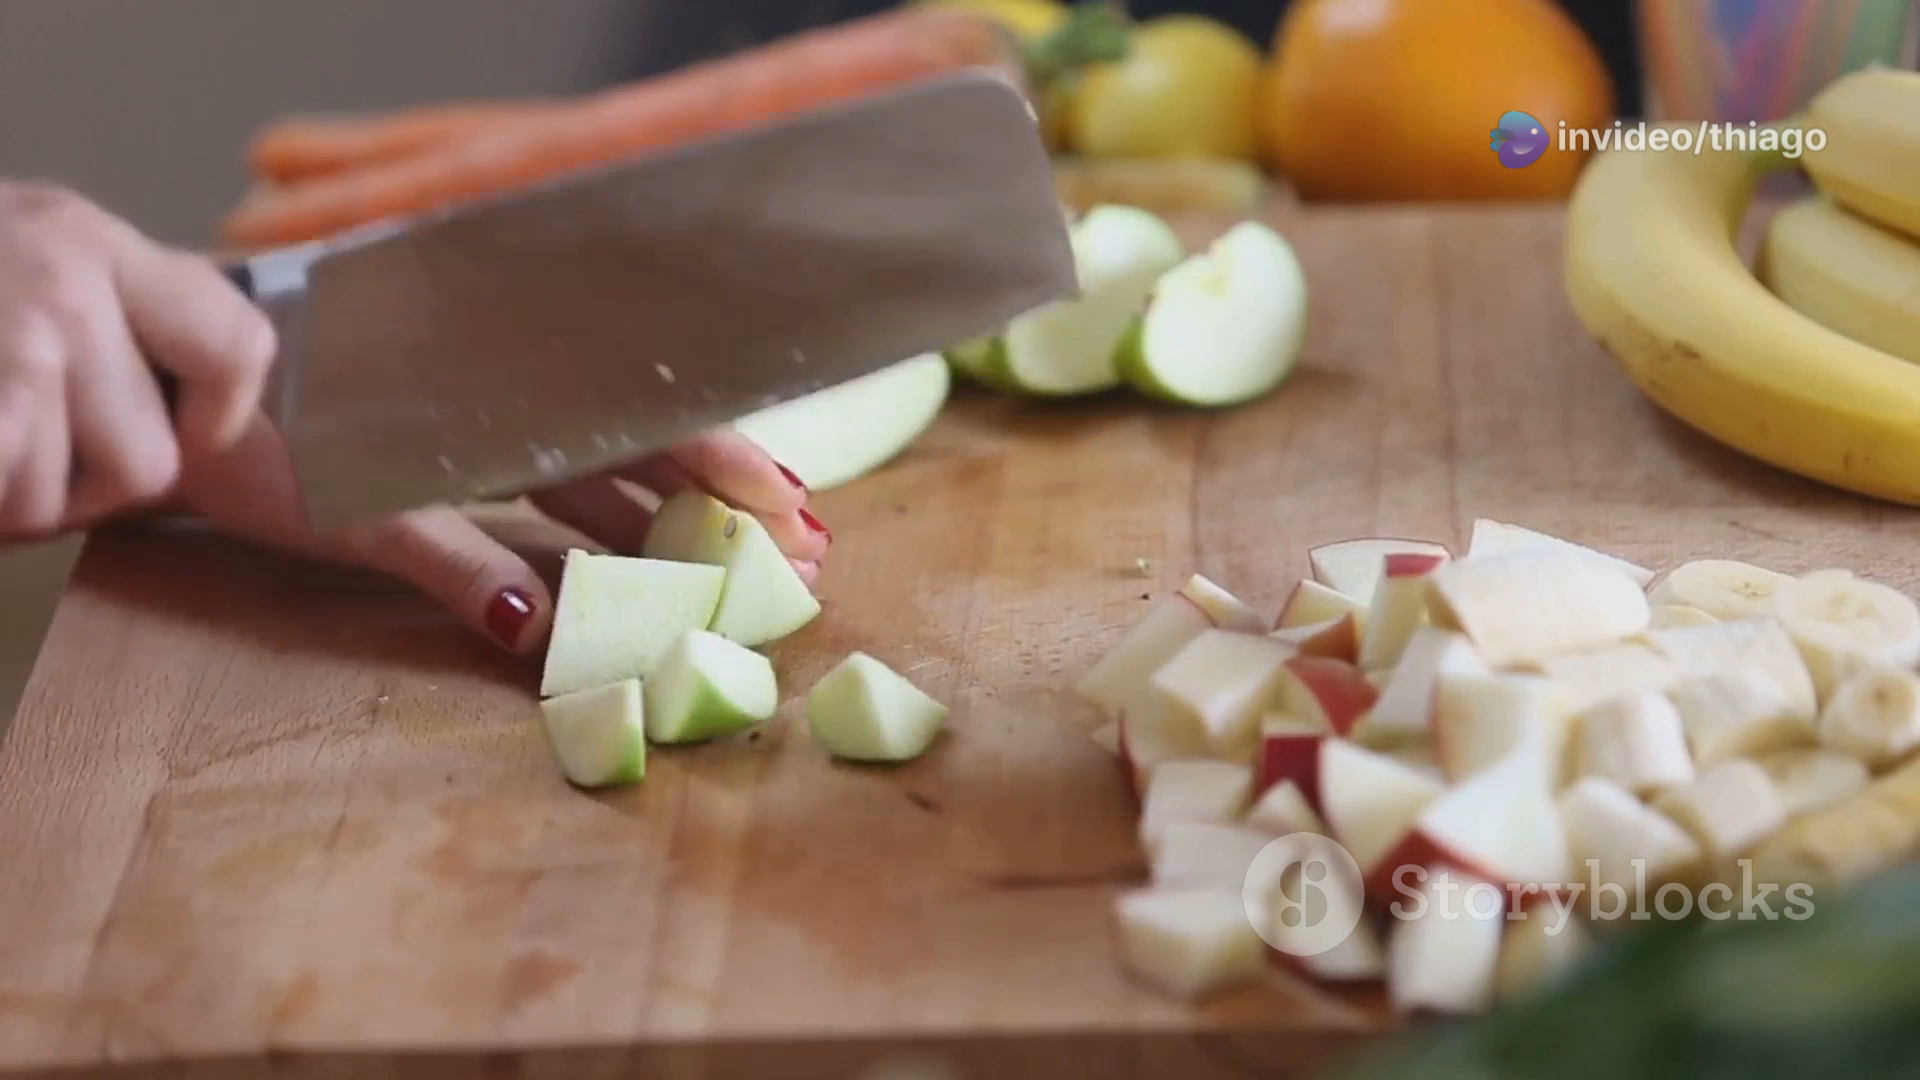cortante: (249, 66, 1079, 530)
